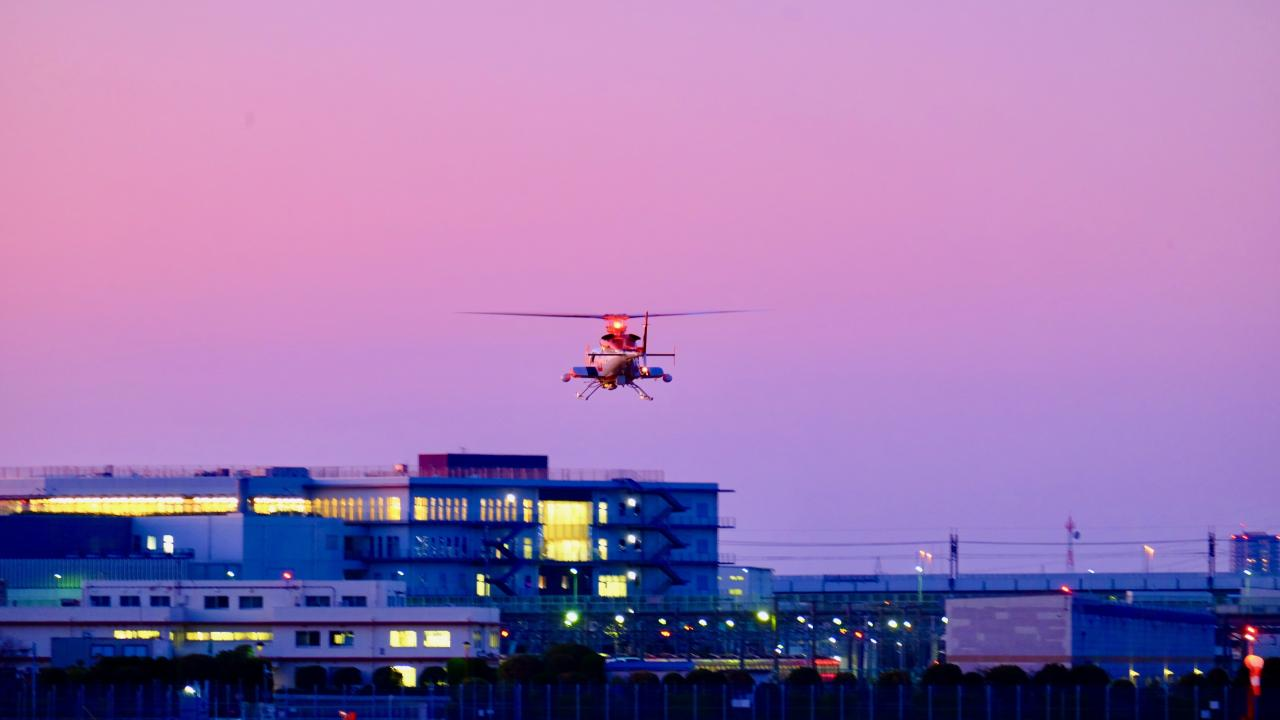Helicopter: (458, 273, 757, 429)
